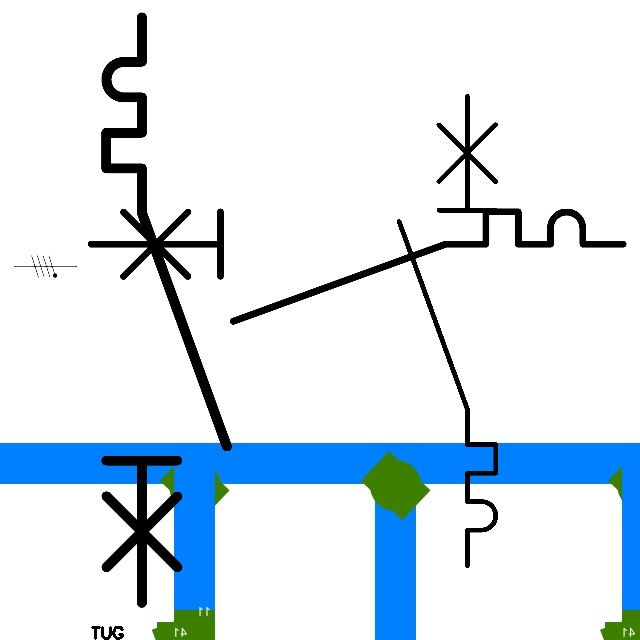interruptor_termomagnetico: (91, 2, 241, 617), (77, 198, 637, 335), (387, 84, 508, 578)
